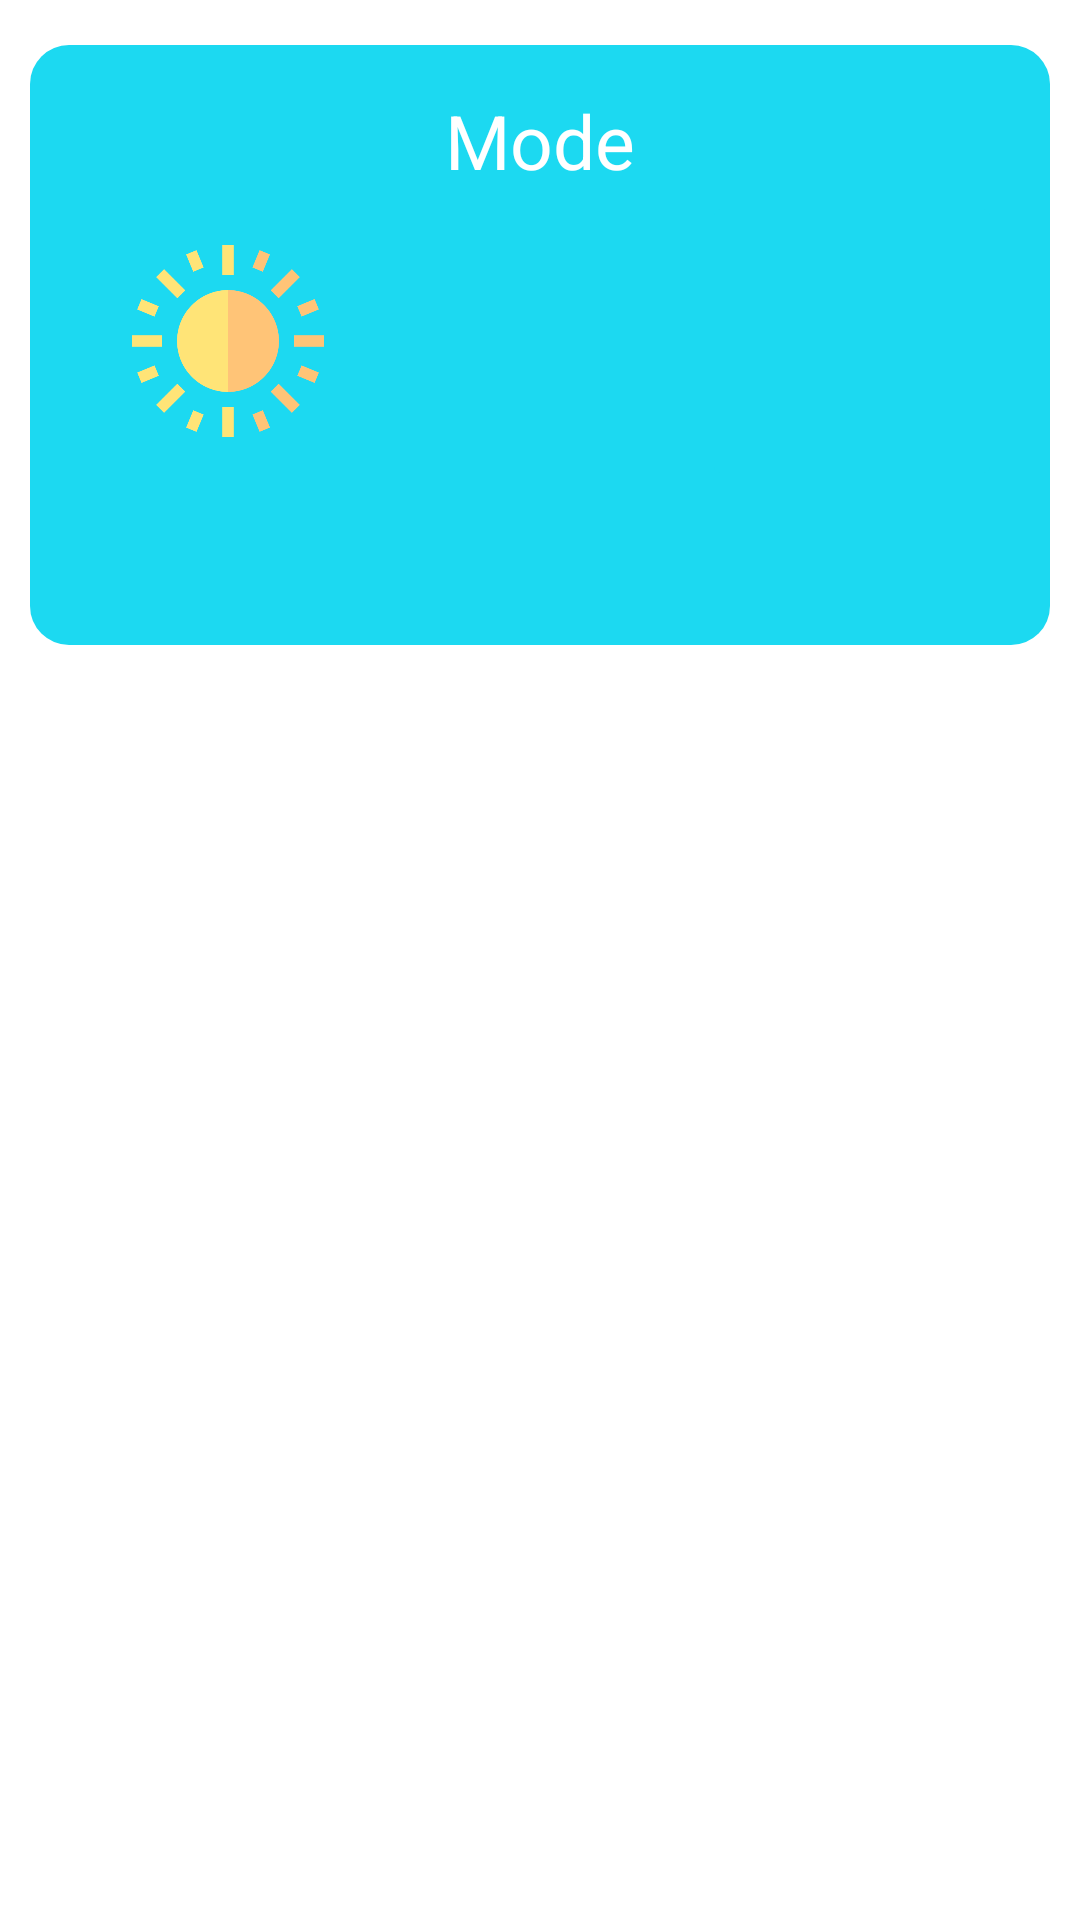

Named icons in this screenshot (1080 x 1920) and their centers, (x,y):
sun: (228,341)
